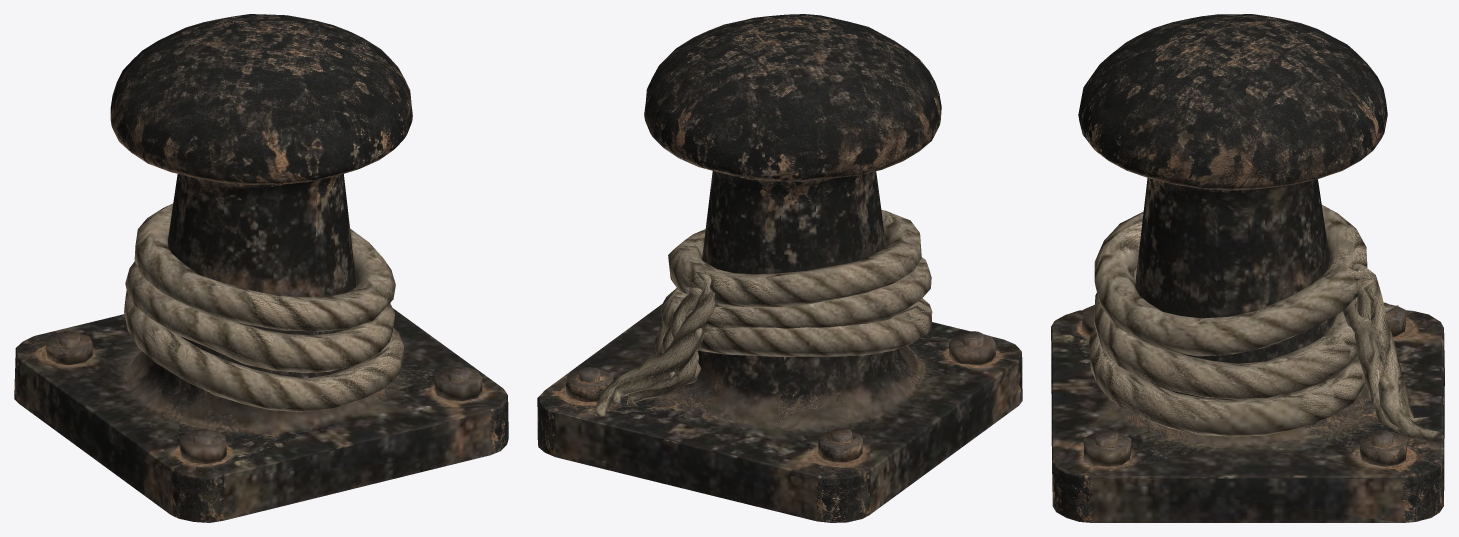
File: mooring_bollard.glb
3 views of the same model, side by side, from view 1: azimuth 30°, elevation 25°; view 2: azimuth 150°, elevation 25°; view 3: azimuth 270°, elevation 25° (orthographic). The views are drawn at different scales.
Parts seen in each view (by area): view 1: Mesh_0; view 2: Mesh_0; view 3: Mesh_0.
Boxes of the visible parts, box(x1,y1,x2,y2) form: Mesh_0: box(14, 14, 508, 522); Mesh_0: box(537, 14, 1022, 522); Mesh_0: box(1051, 14, 1444, 522).
Bounding box in the file's own units: 0.8174 × 0.9 × 0.8121.
1 material, 1 textured.
